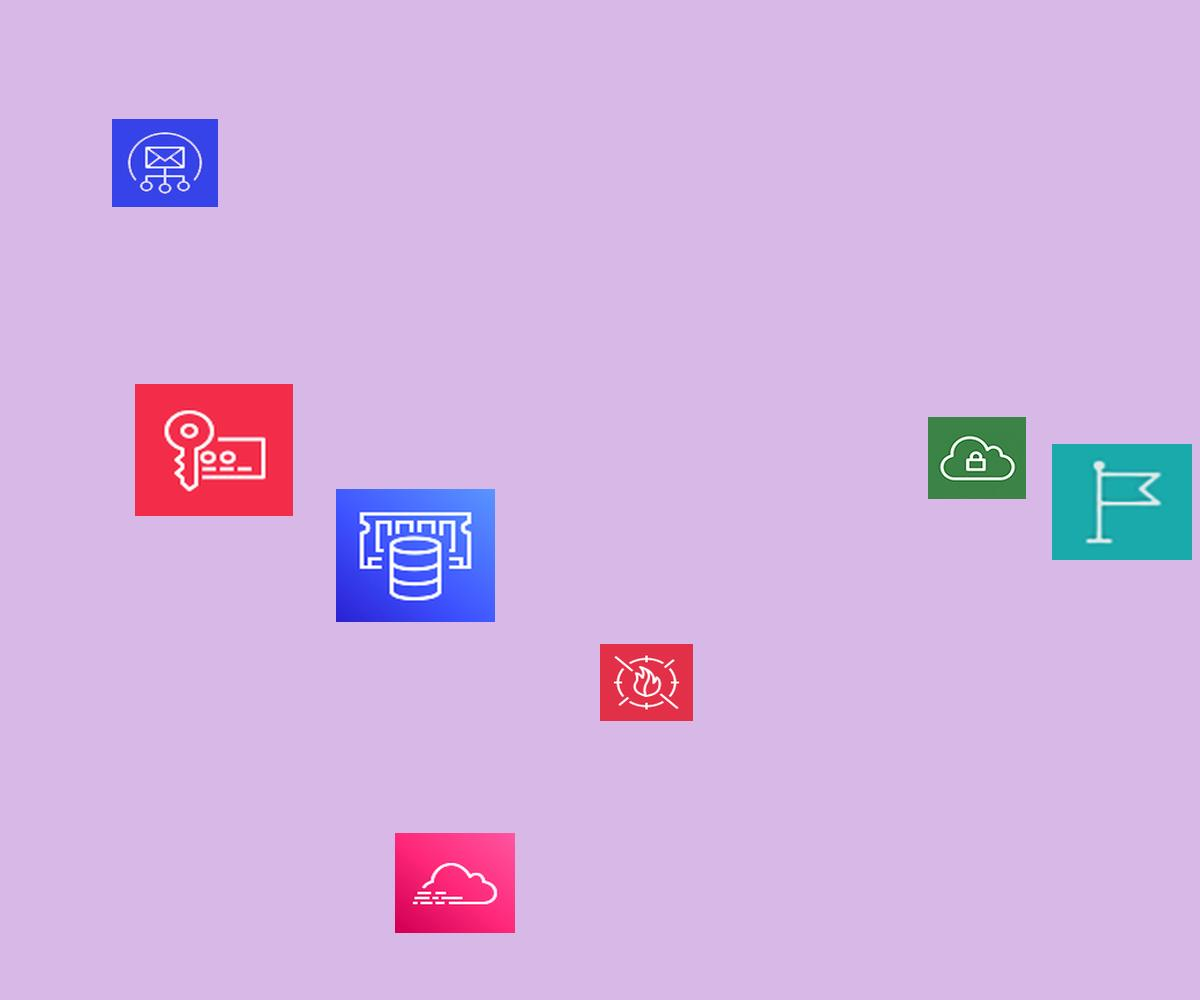AWS-CloudTrail: (395, 833, 515, 933)
AWS-ElastiCache: (336, 489, 495, 622)
AWS-Key-Management-Service: (135, 384, 293, 516)
AWS-Private_vpc: (928, 417, 1026, 499)
AWS-Region: (1052, 444, 1192, 560)
AWS-Simple-Email-Service: (112, 119, 218, 207)
AWS-WAF: (600, 644, 693, 721)
